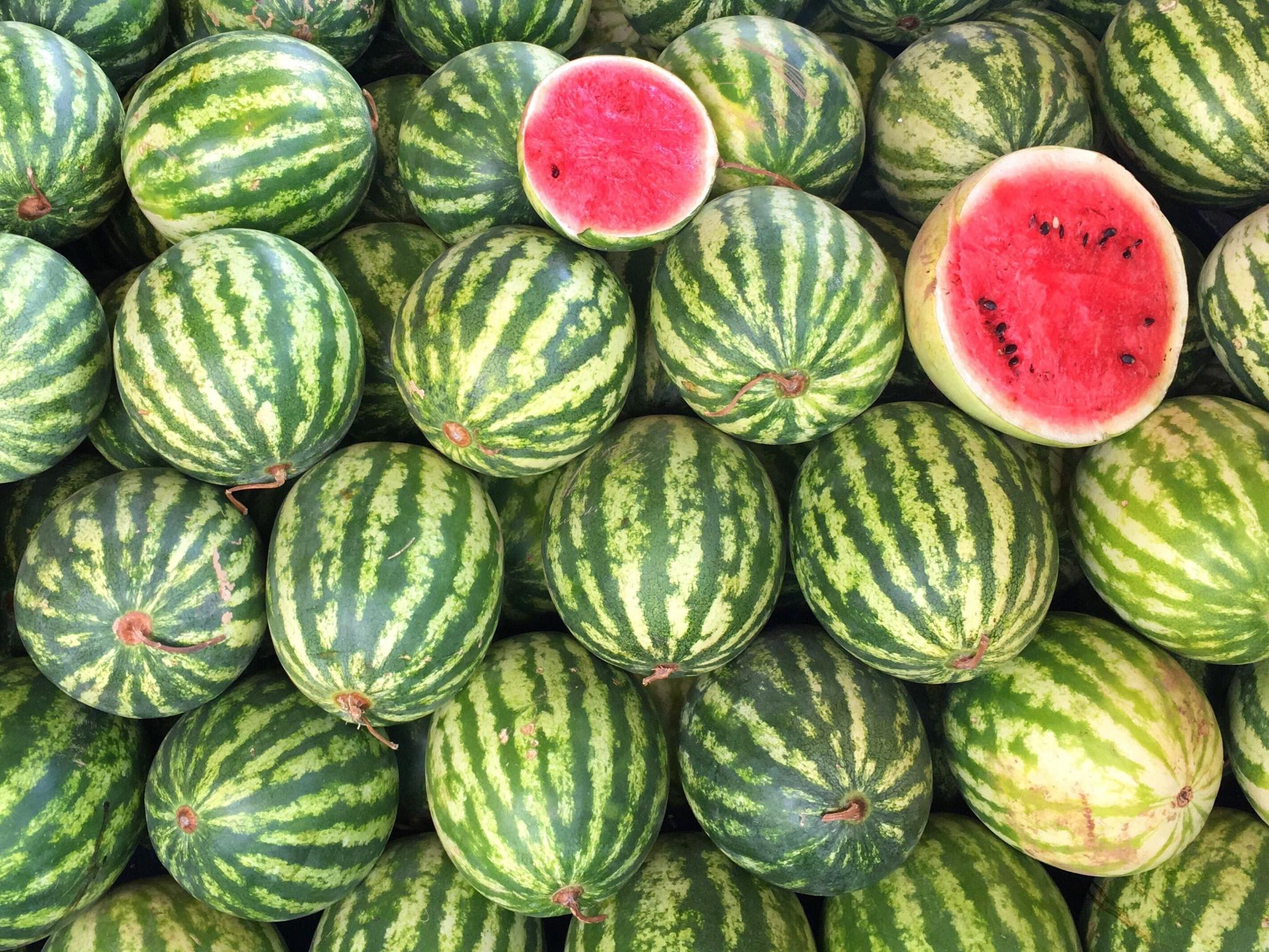dua_hau: (789, 400, 1059, 683), (262, 438, 509, 725), (532, 411, 783, 679), (112, 224, 367, 486), (387, 224, 636, 481), (121, 23, 380, 247)
